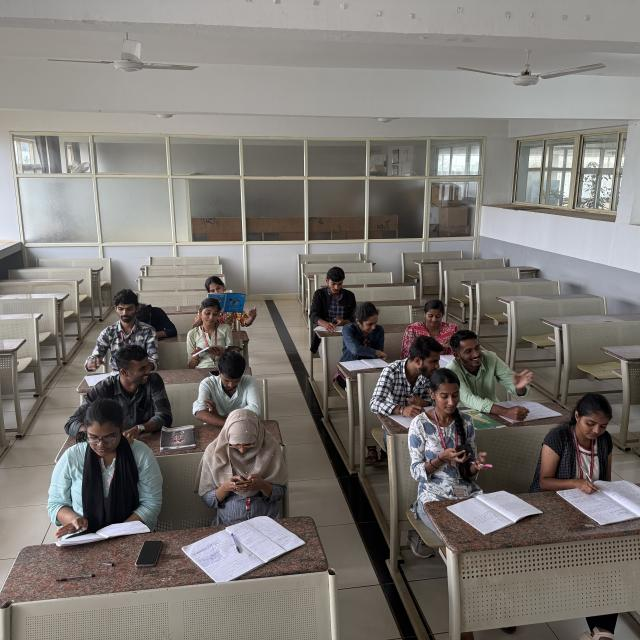Reading: (35, 417, 162, 541), (78, 300, 142, 388), (299, 266, 358, 342), (183, 303, 255, 365), (399, 301, 462, 364), (342, 304, 393, 379), (200, 273, 255, 319)
Sleeping: (130, 296, 180, 340)
Using Phone: (417, 369, 490, 476), (201, 416, 293, 499)
Writing: (542, 398, 635, 516)
